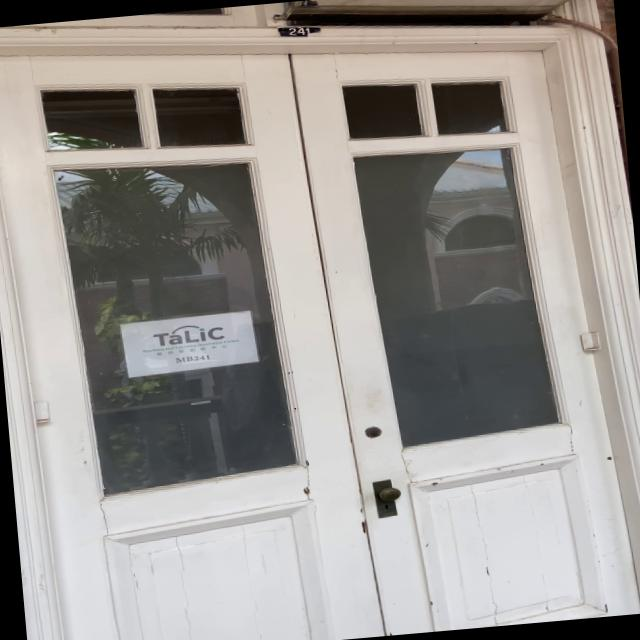room241: (274, 21, 323, 44)
